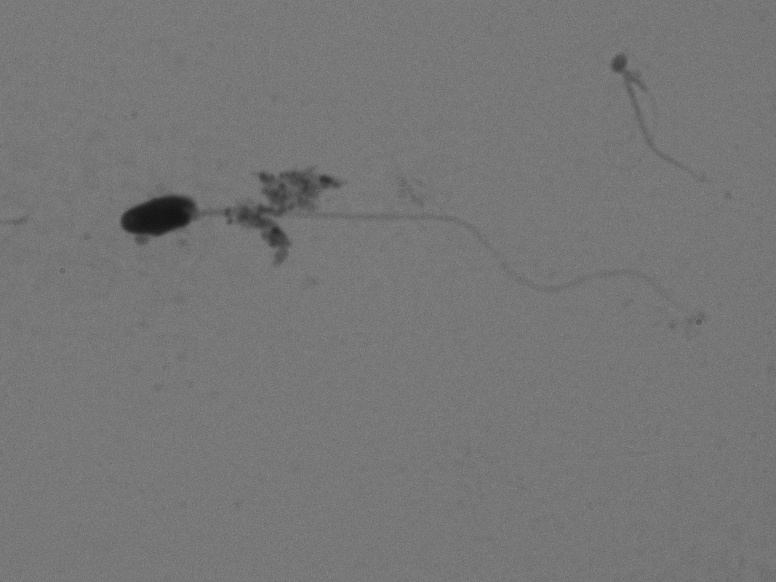Abnormal: (110, 182, 683, 334)
